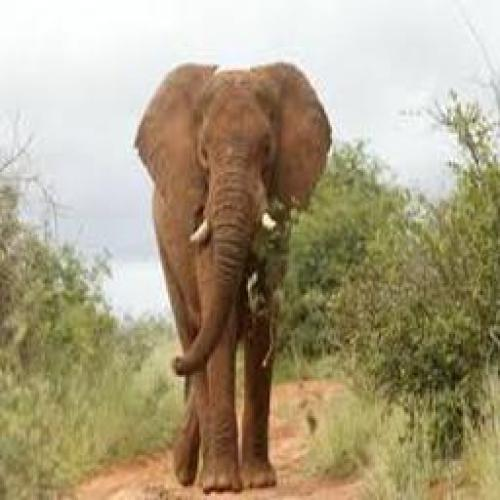african_elephant-endangered: (141, 64, 331, 486)
